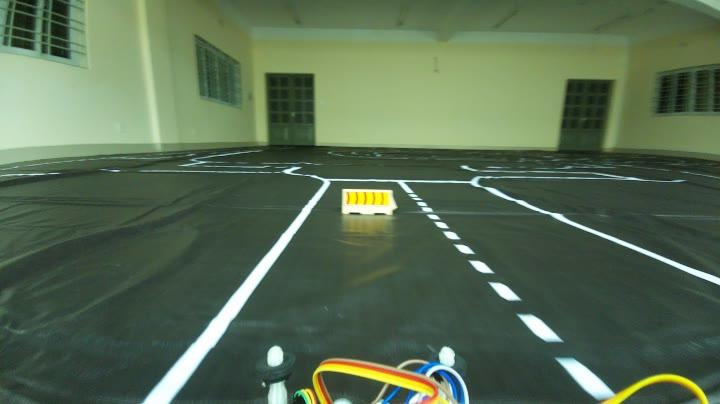roadblock: (336, 185, 398, 216)
